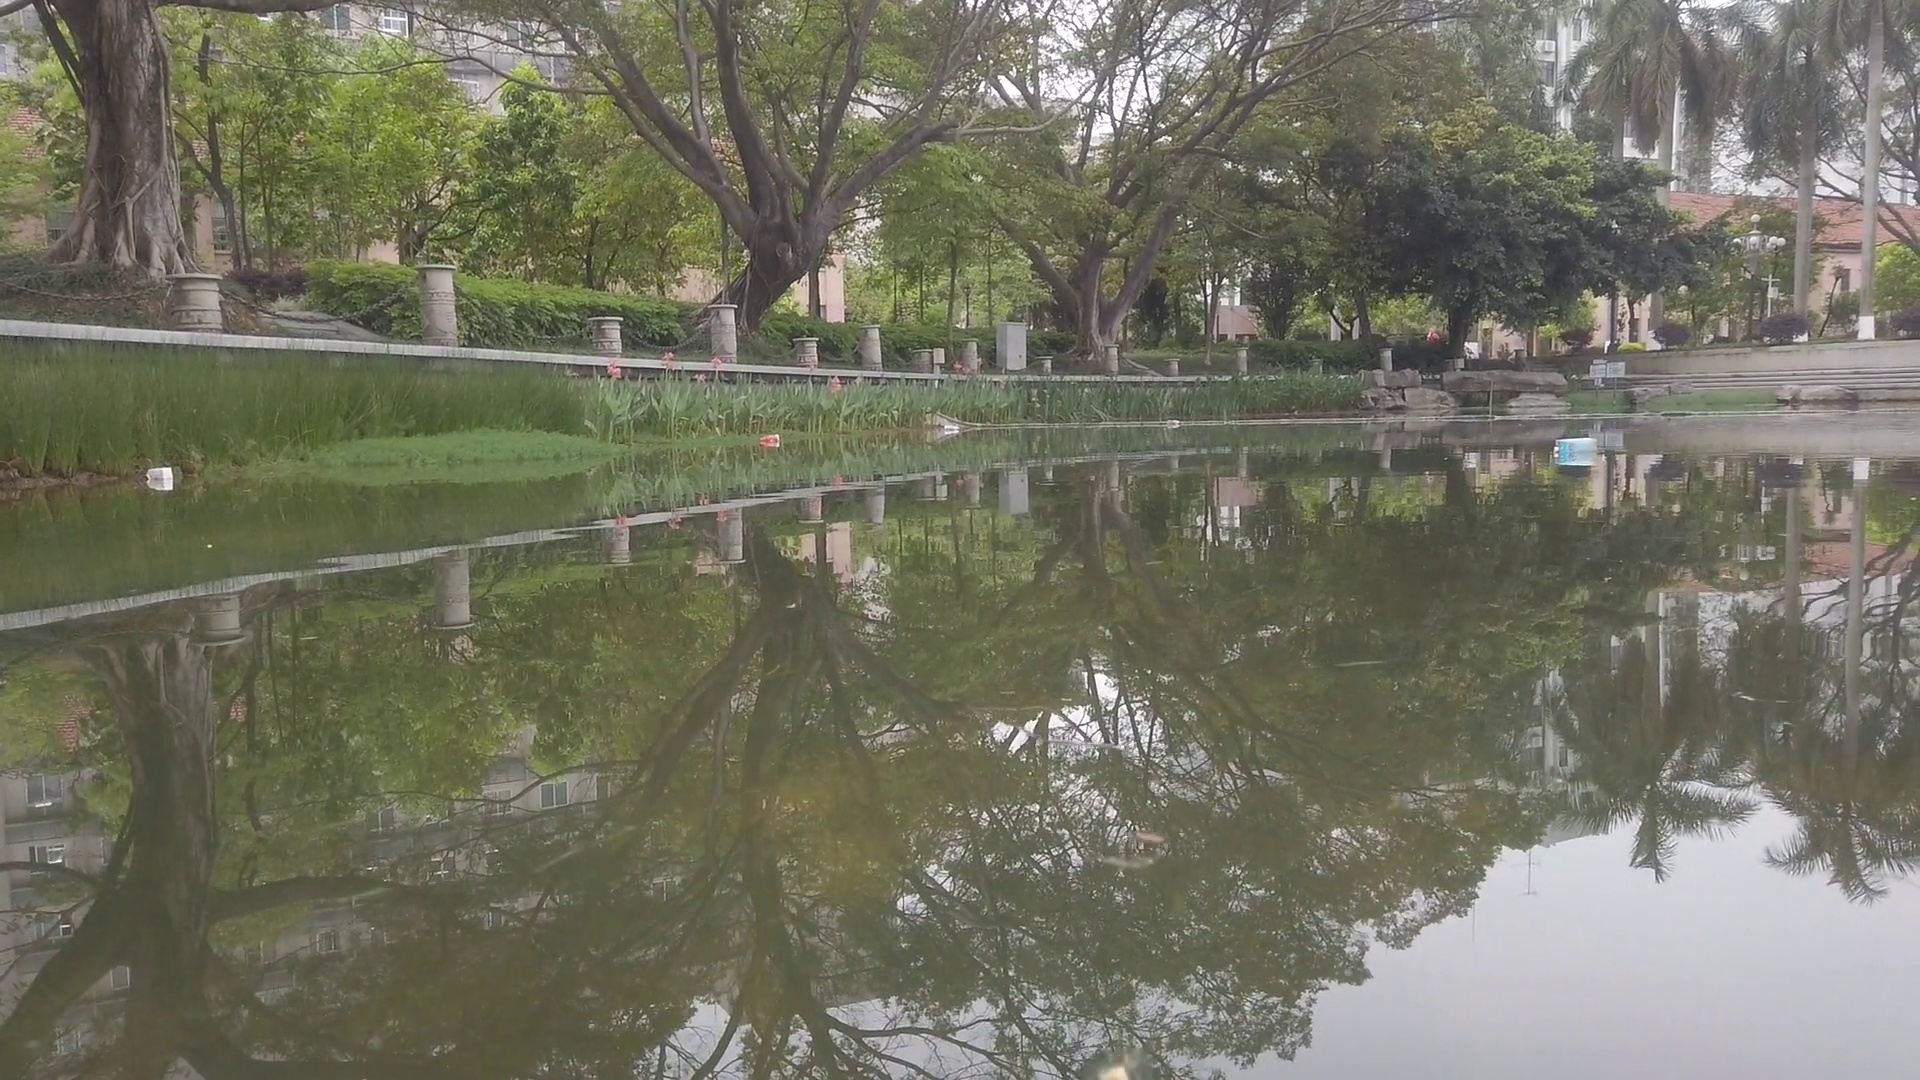bottle: (764, 435, 781, 444), (943, 423, 963, 431), (1164, 419, 1182, 427)
carton: (1553, 436, 1600, 459), (146, 468, 171, 481)
